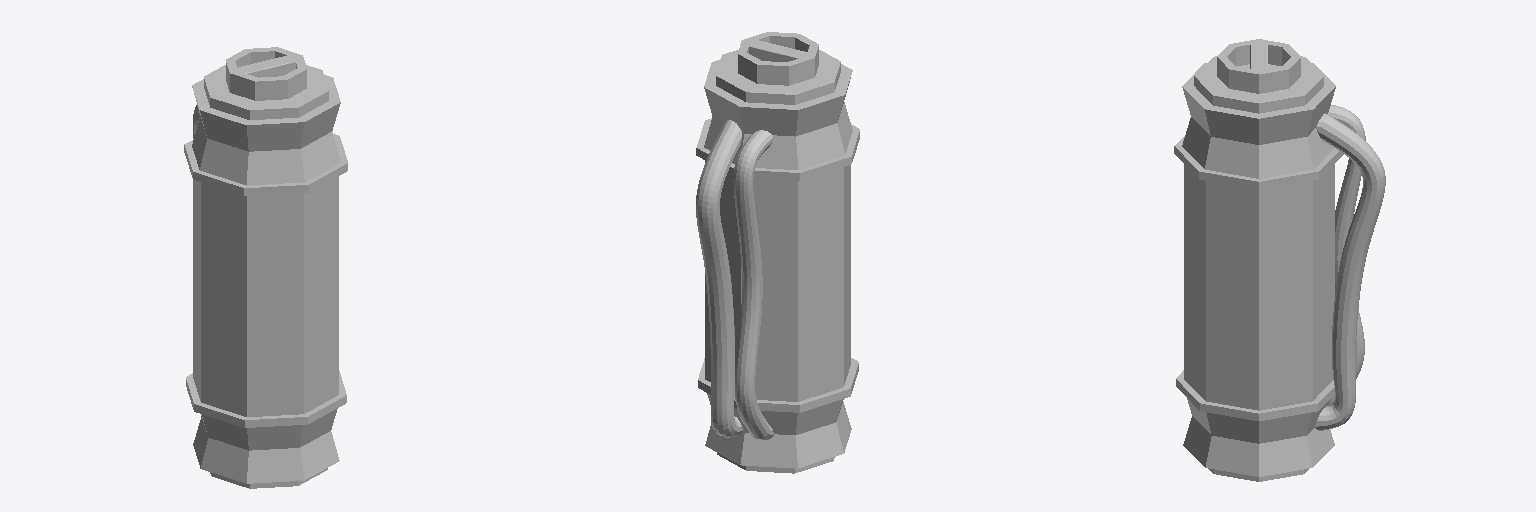
Rendered from powerCell.obj.
3 views of the same model, side by side, from view 1: azimuth 30°, elevation 25°; view 2: azimuth 150°, elevation 25°; view 3: azimuth 270°, elevation 25° (orthographic).
Parts seen in each view (by area): view 1: pCylinder16 grp_powerCell, grp_powerCell pCylinder18, grp_powerCell pCylinder19, grp_powerCell pCube38; view 2: pCylinder16 grp_powerCell, grp_powerCell pCylinder18, grp_powerCell pCylinder19, grp_powerCell extrudedSurface3, grp_powerCell extrudedSurface2, grp_powerCell pCube38; view 3: pCylinder16 grp_powerCell, grp_powerCell pCylinder18, grp_powerCell pCylinder19, grp_powerCell extrudedSurface3, grp_powerCell extrudedSurface2.
Part boxes in pixels (x1,y1,x2,y2): pCylinder16 grp_powerCell: (193, 176, 338, 416); grp_powerCell pCylinder18: (184, 47, 347, 195); grp_powerCell pCylinder19: (186, 371, 346, 488); grp_powerCell pCube38: (237, 55, 295, 77); pCylinder16 grp_powerCell: (705, 161, 850, 401); grp_powerCell pCylinder18: (696, 32, 859, 180); grp_powerCell pCylinder19: (698, 358, 858, 473); grp_powerCell extrudedSurface3: (696, 120, 742, 437); grp_powerCell extrudedSurface2: (733, 130, 773, 439); grp_powerCell pCube38: (749, 40, 807, 61); pCylinder16 grp_powerCell: (1184, 164, 1334, 410); grp_powerCell pCylinder18: (1174, 39, 1343, 189); grp_powerCell pCylinder19: (1176, 370, 1334, 481); grp_powerCell extrudedSurface3: (1315, 113, 1385, 430); grp_powerCell extrudedSurface2: (1328, 105, 1365, 405).
Size of the model in its own units: 0.3667 by 0.9497 by 0.4566.